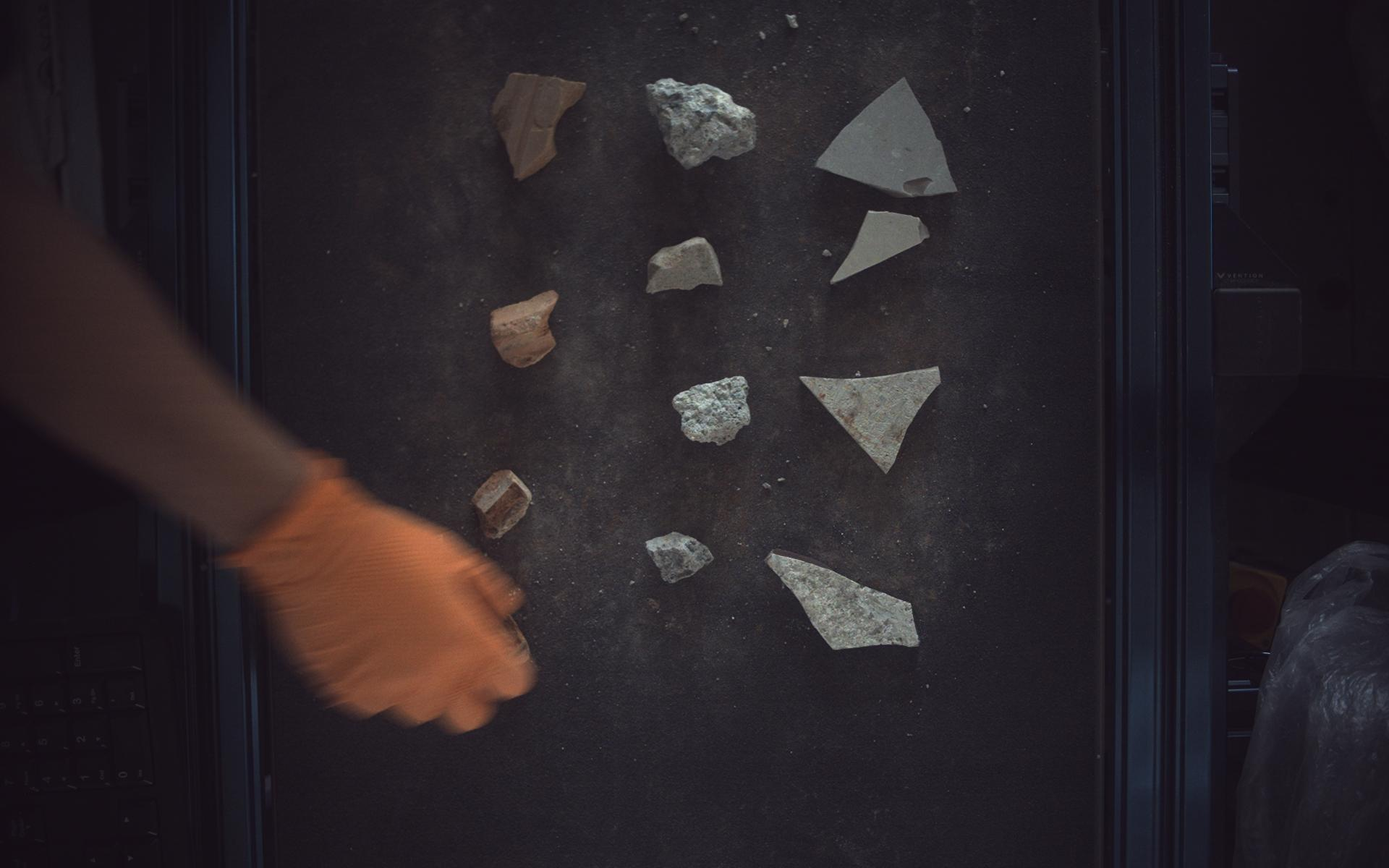brick: (492, 72, 586, 179), (490, 291, 559, 368), (472, 469, 532, 540)
concrete: (647, 77, 757, 169), (674, 375, 752, 446), (647, 237, 723, 293), (646, 532, 715, 584)
tile: (817, 77, 959, 196), (802, 367, 943, 473), (767, 553, 921, 650), (832, 210, 931, 284)
